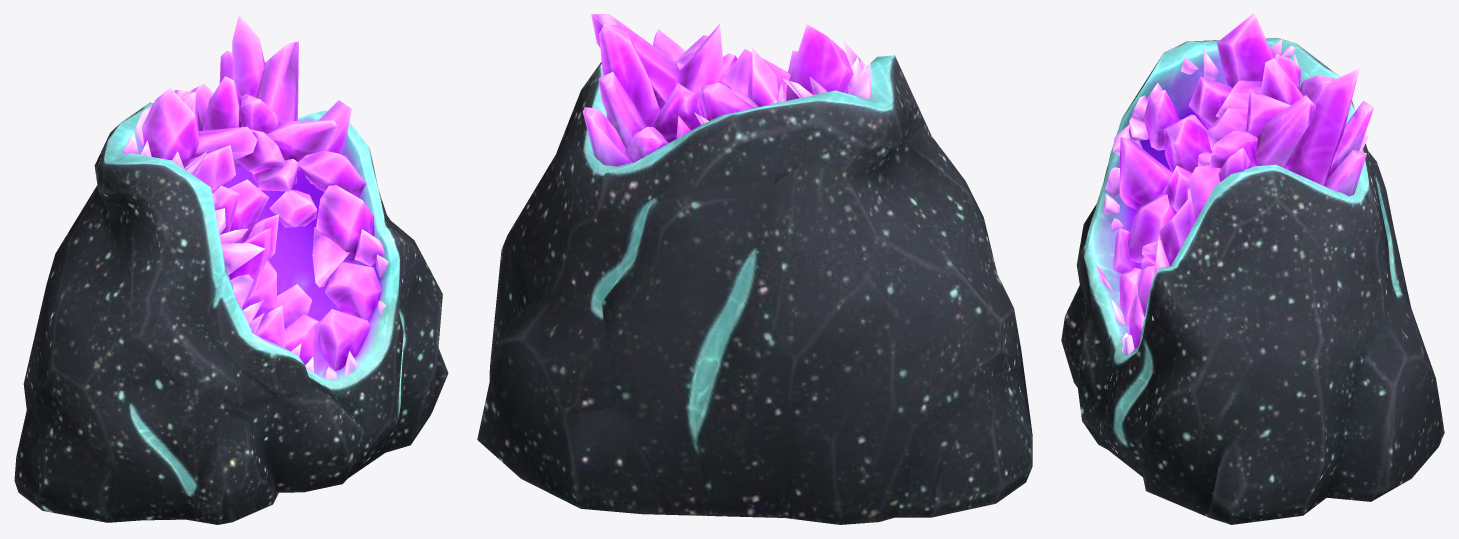
File: crystal_amethyst_a_far.glb
3 renders of one model, left to right at view 1: azimuth 30°, elevation 25°; view 2: azimuth 150°, elevation 25°; view 3: azimuth 270°, elevation 25°, orthographic. The views are drawn at different scales.
Visible parts, largest first — view 1: SM_CRST_STL_Amethyst_01A; view 2: SM_CRST_STL_Amethyst_01A; view 3: SM_CRST_STL_Amethyst_01A.
Boxes of the visible parts, <box> form: SM_CRST_STL_Amethyst_01A: <box>14,14,448,524</box>; SM_CRST_STL_Amethyst_01A: <box>477,14,1032,524</box>; SM_CRST_STL_Amethyst_01A: <box>1061,14,1444,524</box>.
Size of the model in its own units: 19.79 by 16.52 by 14.76.
Materials: 1 (1 with a texture image).
